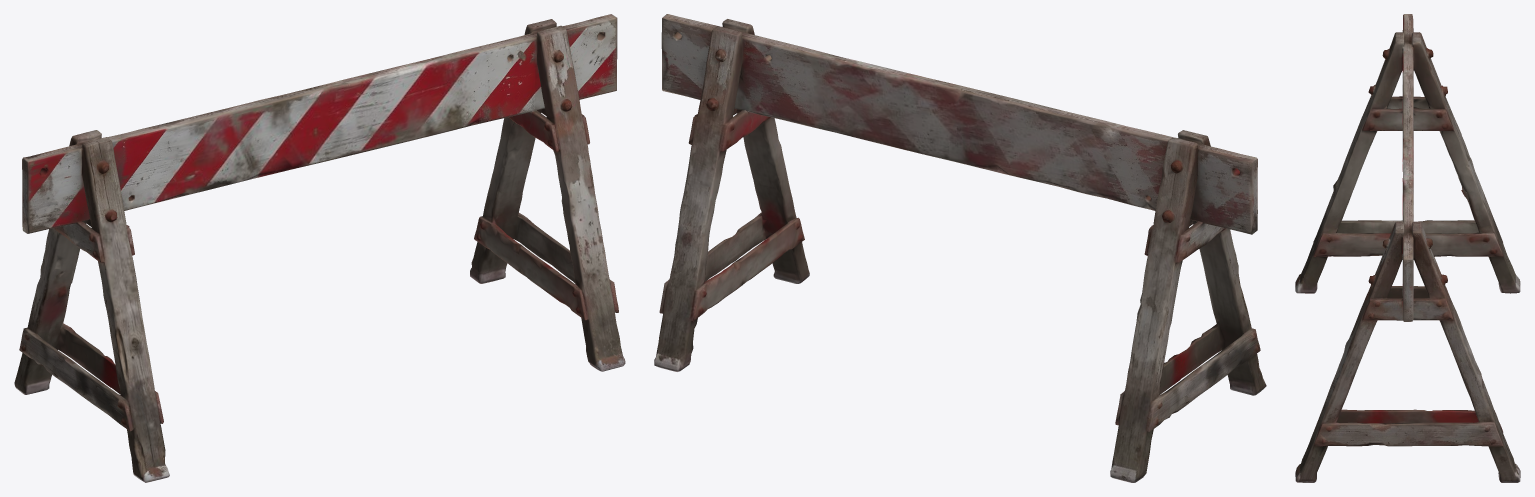
File: barrier_road.glb
3 views of the same model, side by side, from view 1: azimuth 30°, elevation 25°; view 2: azimuth 150°, elevation 25°; view 3: azimuth 270°, elevation 25° (orthographic). The views are drawn at different scales.
Parts seen in each view (by area): view 1: tripo_node_700277a7-e581-4b3c-8872-eb49e1a129f3; view 2: tripo_node_700277a7-e581-4b3c-8872-eb49e1a129f3; view 3: tripo_node_700277a7-e581-4b3c-8872-eb49e1a129f3.
Part boxes in pixels (<box>): tripo_node_700277a7-e581-4b3c-8872-eb49e1a129f3: <box>14,14,625,482</box>; tripo_node_700277a7-e581-4b3c-8872-eb49e1a129f3: <box>654,14,1266,482</box>; tripo_node_700277a7-e581-4b3c-8872-eb49e1a129f3: <box>1295,14,1520,482</box>.
Bounding box in the file's own units: 1 × 0.479 × 0.3879.
1 material, 1 textured.
